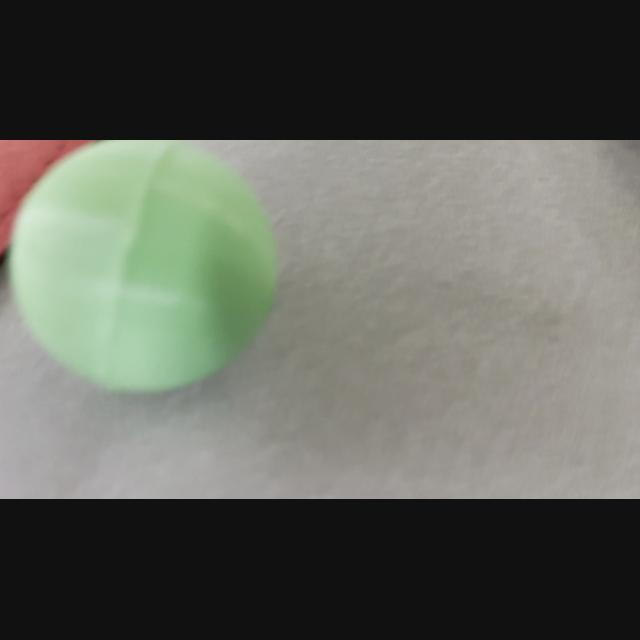objects: (6, 140, 288, 408)
